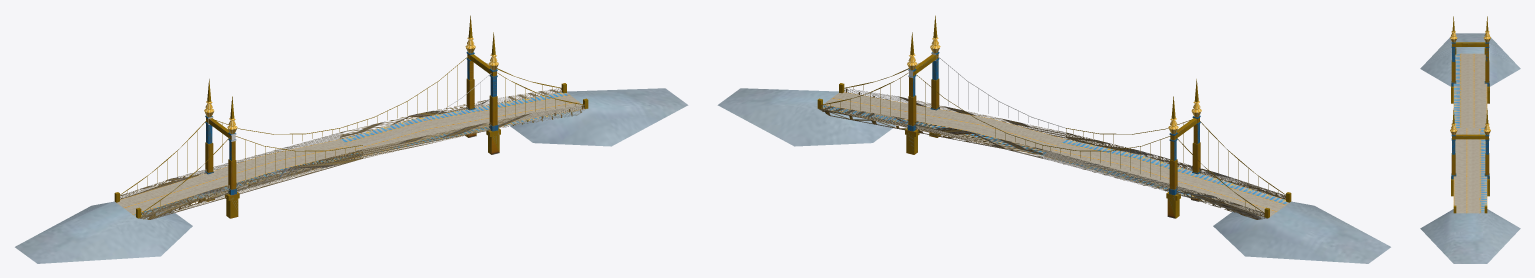
The model's file is diamond-gate-bridge.glb.
3 renders of one model, left to right at view 1: azimuth 30°, elevation 25°; view 2: azimuth 150°, elevation 25°; view 3: azimuth 270°, elevation 25°, orthographic. The views are drawn at different scales.
Parts seen in each view (by area): view 1: _C-Gruppe#6 (Loose Mesh); view 2: _C-Gruppe#6 (Loose Mesh); view 3: _C-Gruppe#6 (Loose Mesh).
Boxes of the visible parts, bbox=[...] form: _C-Gruppe#6 (Loose Mesh): bbox=[15, 15, 688, 263]; _C-Gruppe#6 (Loose Mesh): bbox=[717, 15, 1390, 263]; _C-Gruppe#6 (Loose Mesh): bbox=[1420, 16, 1520, 263].
Bounding box in the file's own units: 130 × 23.24 × 24.
9 materials, 8 textured.
